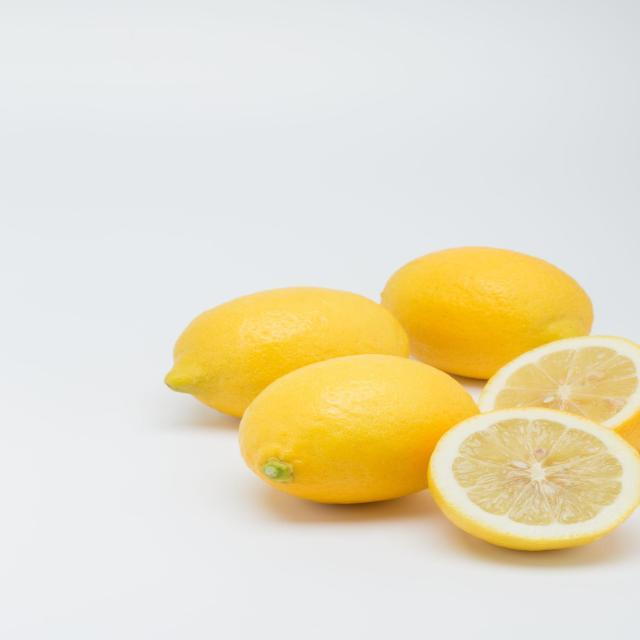lemon: (225, 350, 484, 508), (418, 402, 640, 555)
